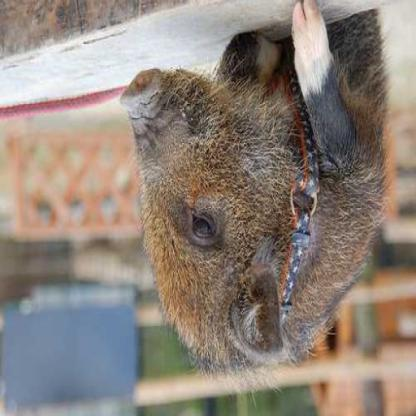boar: (121, 3, 406, 396)
